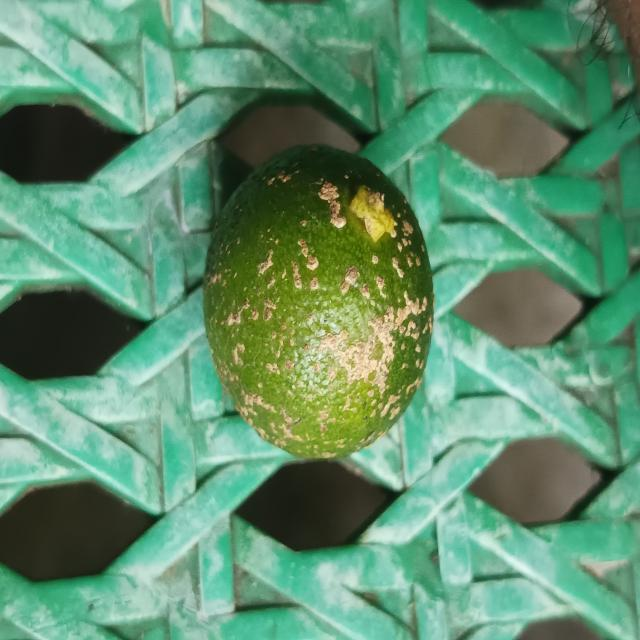scab: (204, 143, 438, 464)
